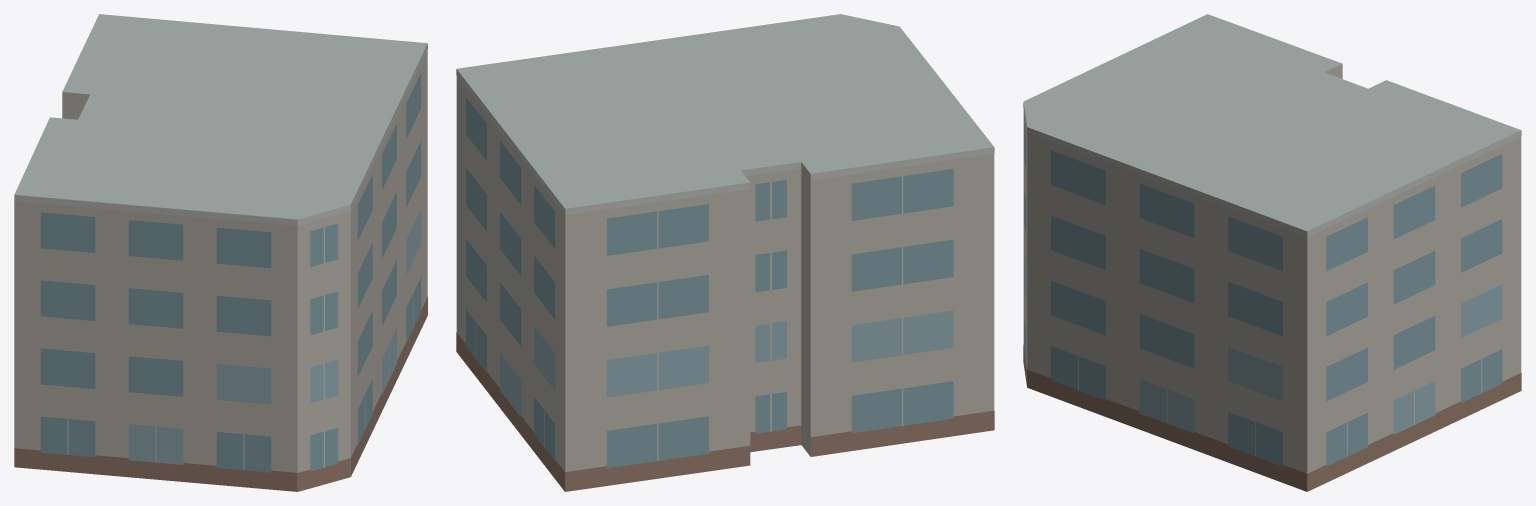
Rendered from survey-upis-32524275.glb.
3 views of the same model, side by side, from view 1: azimuth 30°, elevation 25°; view 2: azimuth 150°, elevation 25°; view 3: azimuth 270°, elevation 25° (orthographic). The views are drawn at different scales.
Visible parts, largest first — view 1: survey-upis-32524275.tmp; view 2: survey-upis-32524275.tmp; view 3: survey-upis-32524275.tmp.
Part boxes in pixels (left/top/right/bottom): survey-upis-32524275.tmp: left=14, top=14, right=427, bottom=491; survey-upis-32524275.tmp: left=456, top=14, right=994, bottom=491; survey-upis-32524275.tmp: left=1023, top=14, right=1521, bottom=491.
Bounding box in the file's own units: 18.79 × 10.5 × 18.2.
